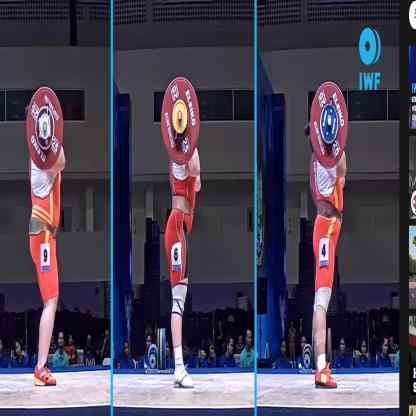barbell: (159, 75, 201, 165), (310, 81, 349, 168), (25, 86, 64, 169)
